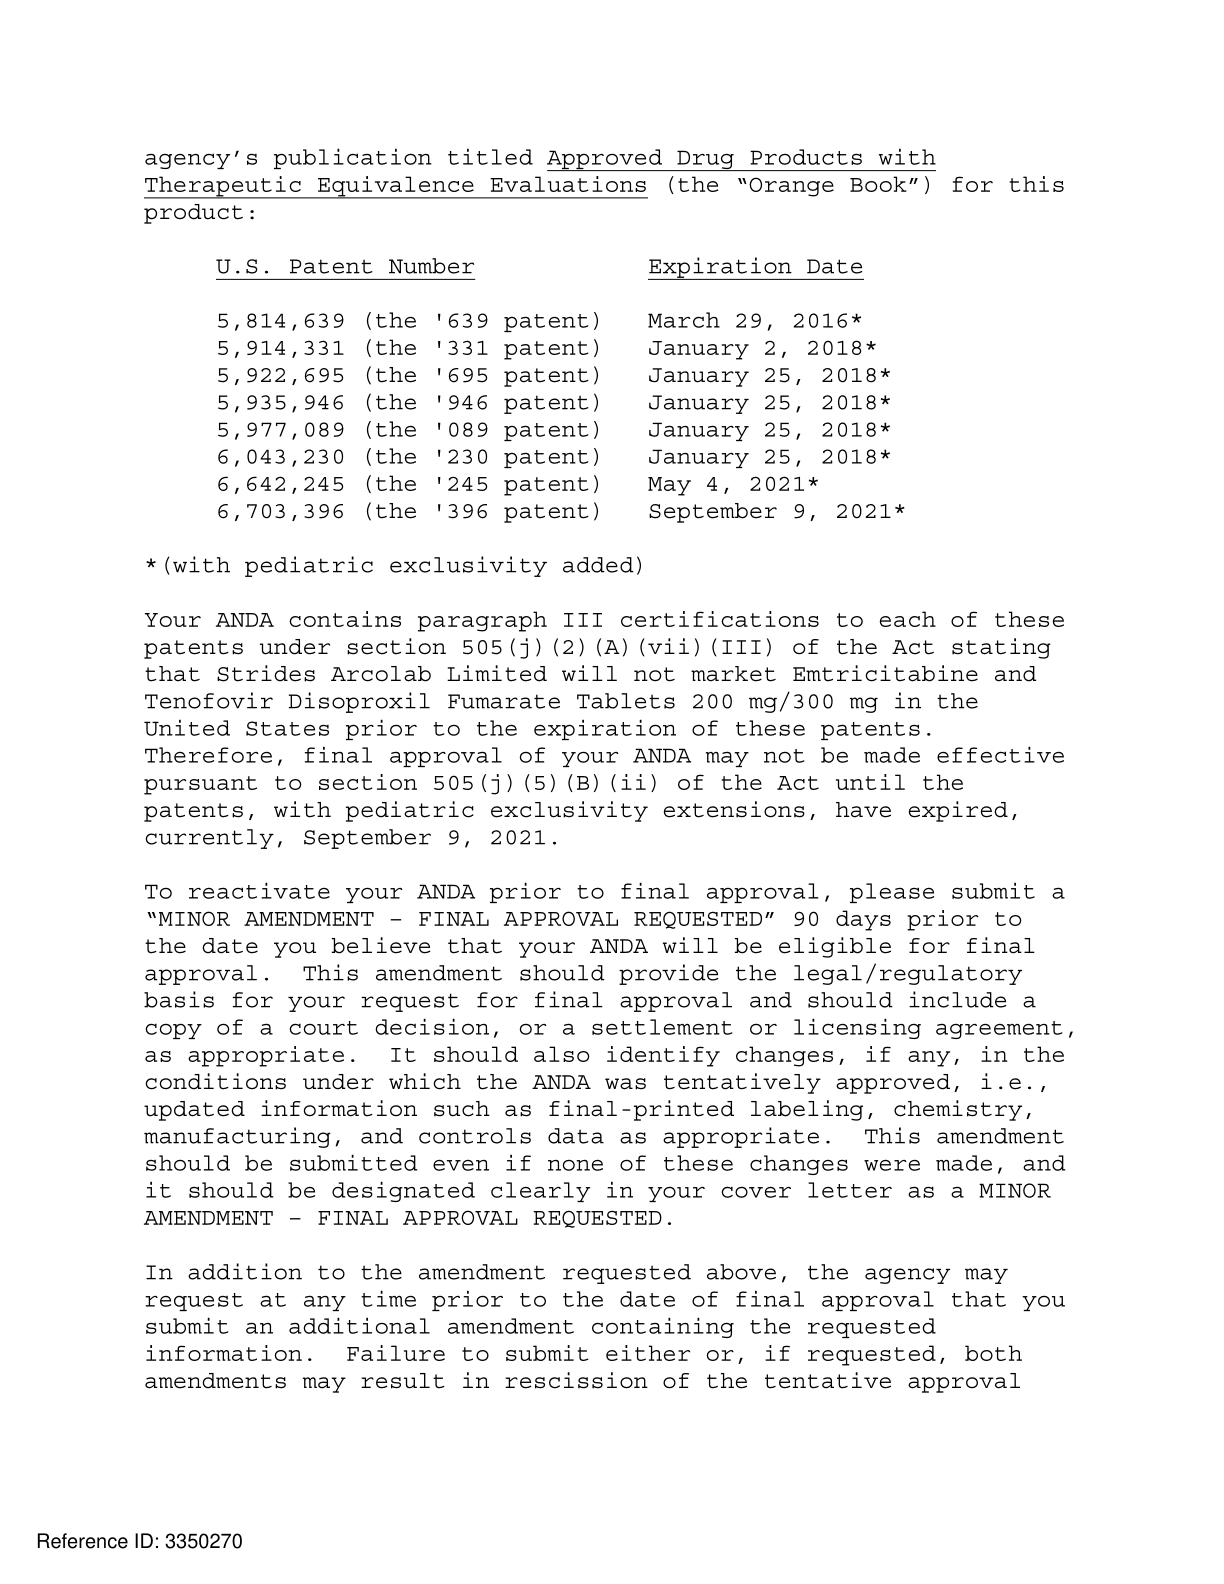nolines: (213, 255, 908, 521)
